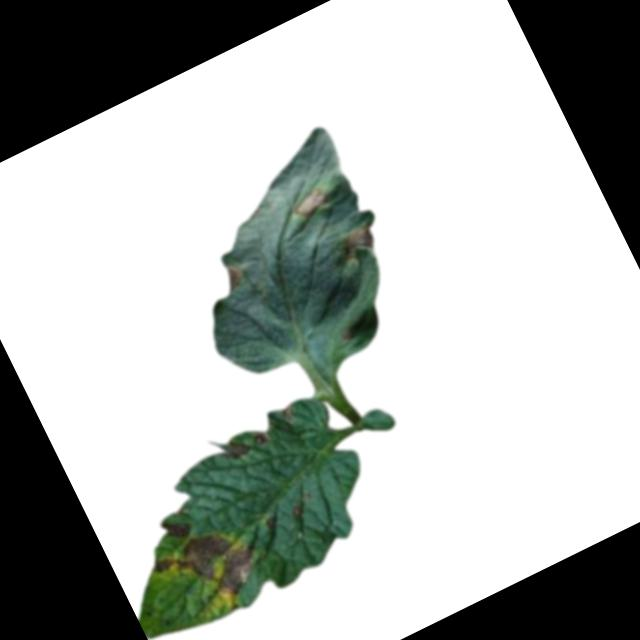Early_blight: (150, 516, 269, 623), (331, 220, 380, 266), (289, 184, 330, 219), (216, 434, 253, 466), (159, 514, 194, 544), (219, 262, 245, 291), (251, 427, 273, 446), (287, 501, 304, 521)
